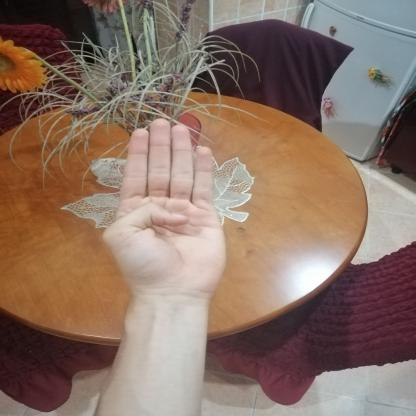KAAF: (90, 107, 244, 309)
